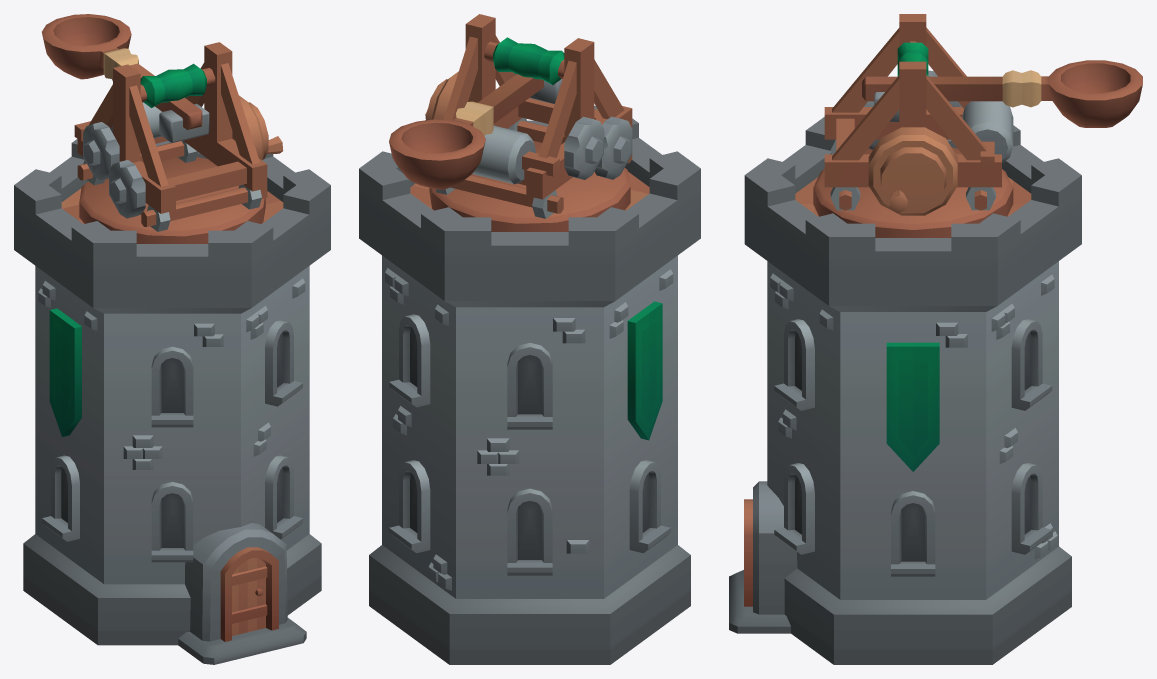
Rendered from hex_tower_catapult.glb.
3 renders of one model, left to right at view 1: azimuth 30°, elevation 25°; view 2: azimuth 150°, elevation 25°; view 3: azimuth 270°, elevation 25°, orthographic. The views are drawn at different scales.
Visible parts, largest first — view 1: building_tower_catapult_green, catapult_turret_green, catapult_arm_green; view 2: building_tower_catapult_green, catapult_turret_green, catapult_arm_green; view 3: building_tower_catapult_green, catapult_turret_green, catapult_arm_green.
Boxes of the visible parts, x1=… form: building_tower_catapult_green: x1=14, y1=139, x2=330, y2=664; catapult_turret_green: x1=74, y1=42, x2=283, y2=243; catapult_arm_green: x1=42, y1=14, x2=209, y2=142; building_tower_catapult_green: x1=359, y1=106, x2=700, y2=664; catapult_turret_green: x1=425, y1=14, x2=632, y2=231; catapult_arm_green: x1=389, y1=74, x2=562, y2=189; building_tower_catapult_green: x1=729, y1=117, x2=1081, y2=664; catapult_turret_green: x1=813, y1=14, x2=1013, y2=237; catapult_arm_green: x1=862, y1=60, x2=1142, y2=127.
Bounding box in the file's own units: 0.9297 × 1.96 × 1.3.
1 material, 1 textured.
